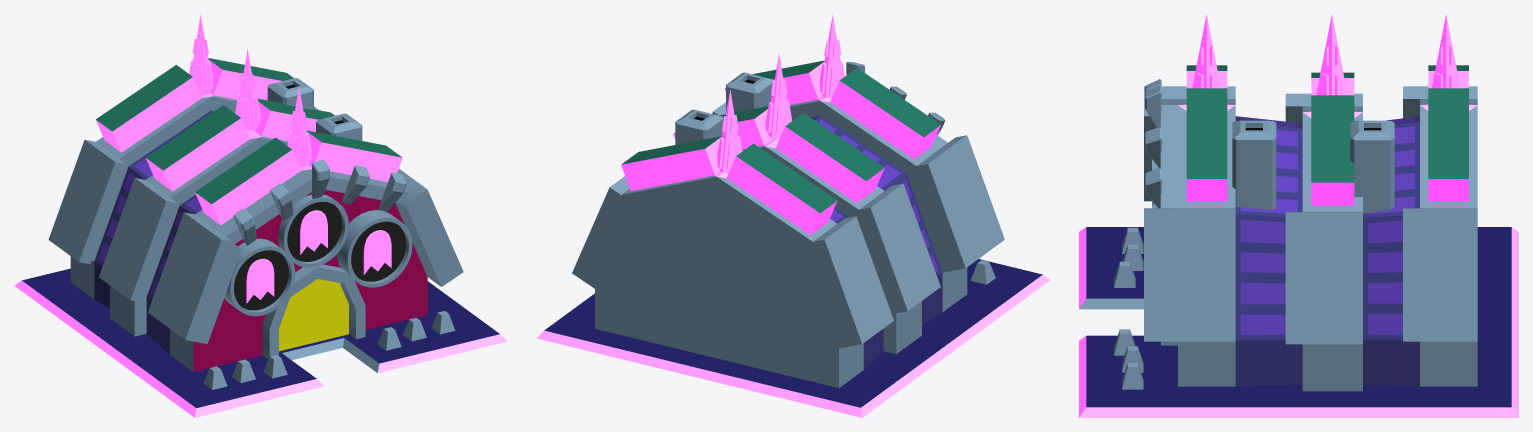
Rendered from Lodge9.fbx.
3 renders of one model, left to right at view 1: azimuth 30°, elevation 25°; view 2: azimuth 150°, elevation 25°; view 3: azimuth 270°, elevation 25°, orthographic. The views are drawn at different scales.
Visible parts, largest first — view 1: lodge9; view 2: lodge9; view 3: lodge9.
Part boxes in pixels (x1,y1,x2,y2): lodge9: (14,15,507,417); lodge9: (536,14,1050,417); lodge9: (1079,14,1518,417).
Size of the model in its own units: 412 by 322 by 412.
